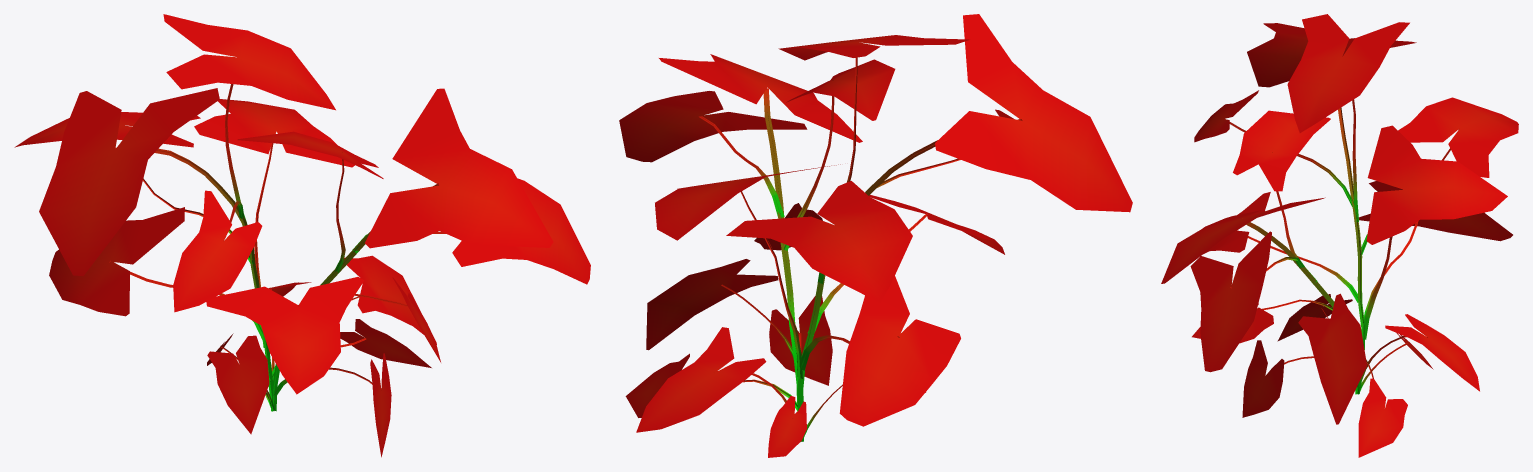
The model's file is Var4_LOD2.fbx.
3 views of the same model, side by side, from view 1: azimuth 30°, elevation 25°; view 2: azimuth 150°, elevation 25°; view 3: azimuth 270°, elevation 25° (orthographic). The views are drawn at different scales.
Visible parts, largest first — view 1: _279d_Var4_LOD2; view 2: _279d_Var4_LOD2; view 3: _279d_Var4_LOD2.
Boxes of the visible parts, x1,y1,x2,y2 form: _279d_Var4_LOD2: [14, 14, 590, 457]; _279d_Var4_LOD2: [619, 14, 1132, 457]; _279d_Var4_LOD2: [1161, 14, 1518, 457].
Size of the model in its own units: 70.69 by 55.35 by 52.06.
